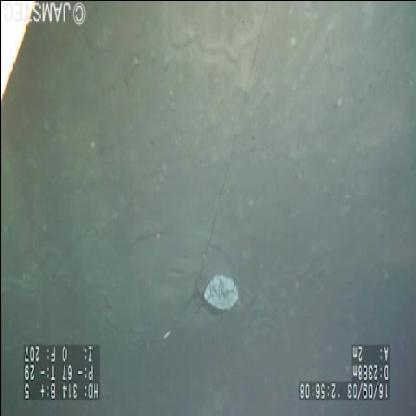Rác: (198, 271, 242, 319)
